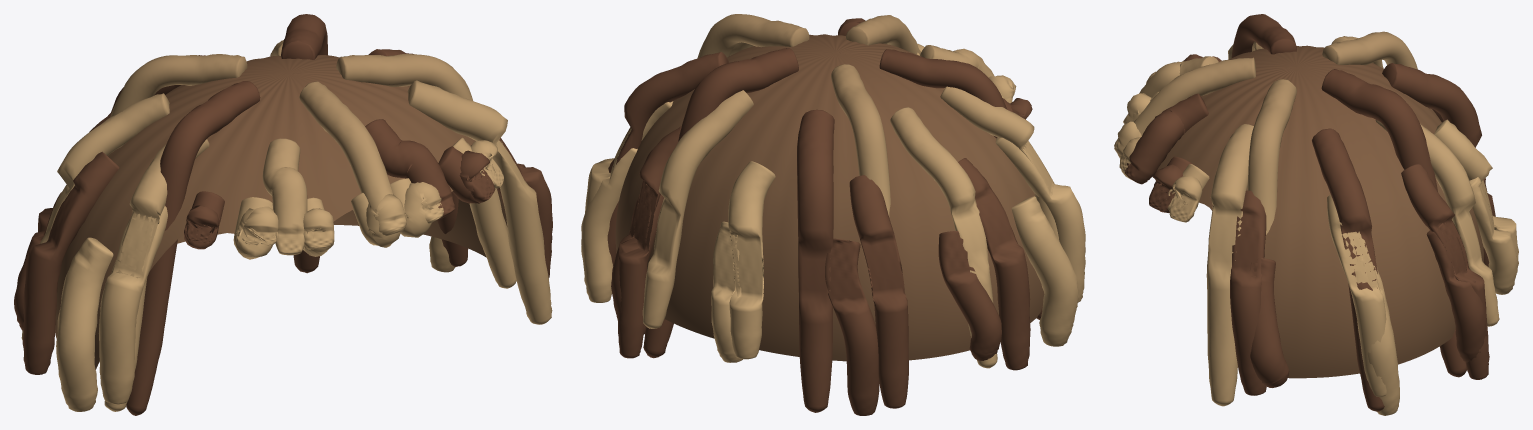
The model's file is Highlights-6b53914042ea251-hair.glb.
3 views of the same model, side by side, from view 1: azimuth 30°, elevation 25°; view 2: azimuth 150°, elevation 25°; view 3: azimuth 270°, elevation 25° (orthographic). The views are drawn at different scales.
Parts seen in each view (by area): view 1: 226 hair / Hair / loc main251.001, 226 hair / Hair / loc accent251.001, 226 hair / Hair / recessed roots251.001; view 2: 226 hair / Hair / loc main251.001, 226 hair / Hair / recessed roots251.001, 226 hair / Hair / loc accent251.001; view 3: 226 hair / Hair / loc main251.001, 226 hair / Hair / recessed roots251.001, 226 hair / Hair / loc accent251.001.
Boxes of the visible parts, left/top/right/bottom form: 226 hair / Hair / loc main251.001: left=14, top=14, right=552, bottom=415; 226 hair / Hair / loc accent251.001: left=56, top=40, right=552, bottom=411; 226 hair / Hair / recessed roots251.001: left=55, top=55, right=507, bottom=369; 226 hair / Hair / loc main251.001: left=607, top=15, right=1042, bottom=415; 226 hair / Hair / recessed roots251.001: left=615, top=34, right=1044, bottom=361; 226 hair / Hair / loc accent251.001: left=581, top=14, right=1085, bottom=362; 226 hair / Hair / loc main251.001: left=1125, top=14, right=1495, bottom=411; 226 hair / Hair / recessed roots251.001: left=1157, top=45, right=1483, bottom=378; 226 hair / Hair / loc accent251.001: left=1114, top=31, right=1518, bottom=415.
Bounding box in the file's own units: 1.13 × 0.666 × 0.8965.
